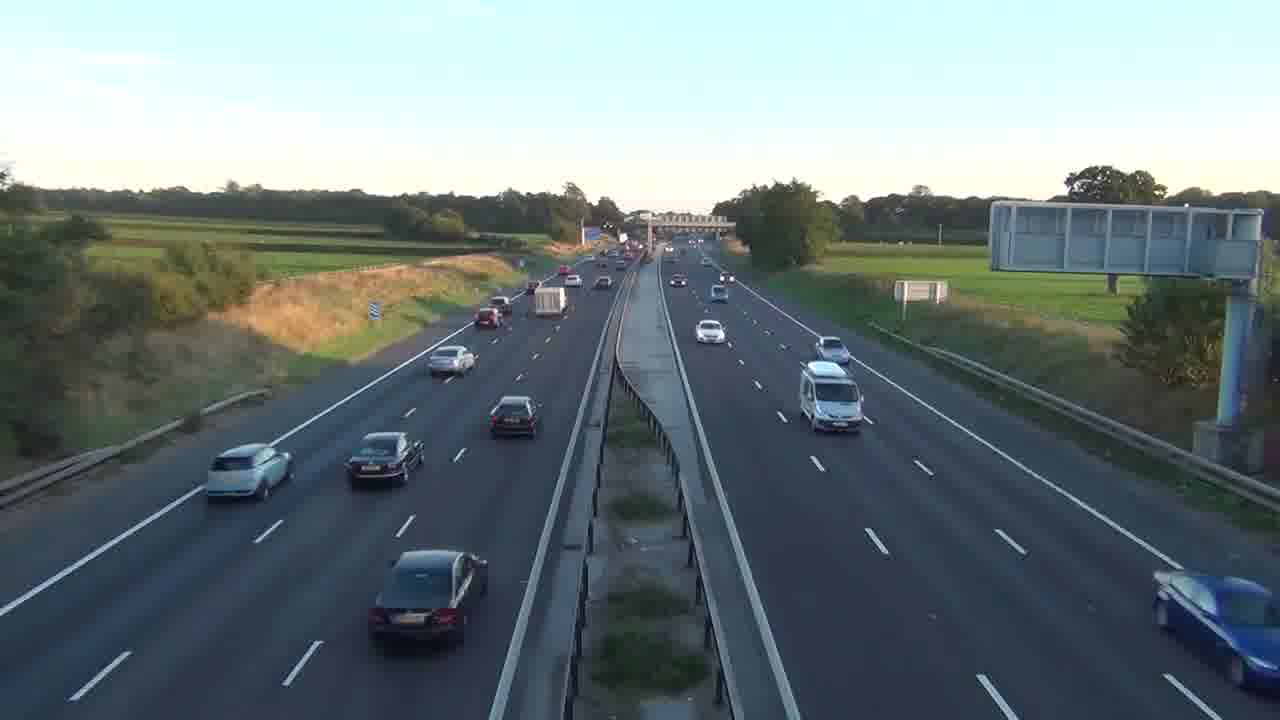car: (1151, 569, 1280, 693), (206, 442, 294, 502), (345, 430, 424, 488), (488, 394, 544, 438), (427, 345, 477, 380), (815, 337, 853, 365), (695, 318, 726, 345)
truck: (367, 547, 489, 648), (533, 286, 568, 319)
